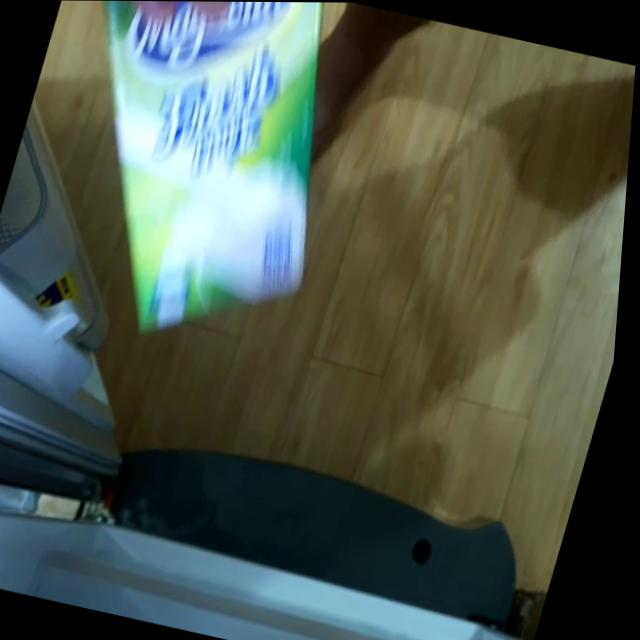milk: (0, 0, 373, 357)
